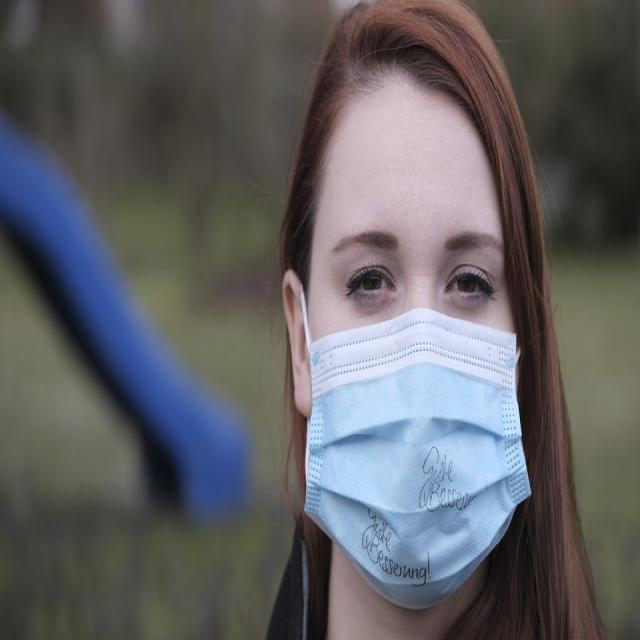1_mascarilla: (313, 326, 531, 608)
